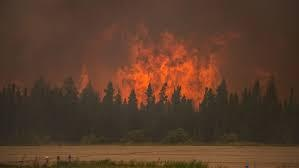fire: (112, 34, 220, 107)
